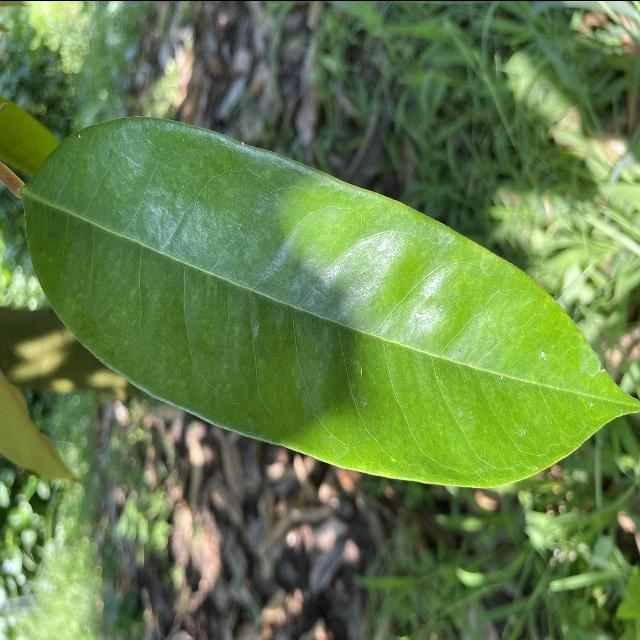No Disease: (13, 107, 640, 495)
